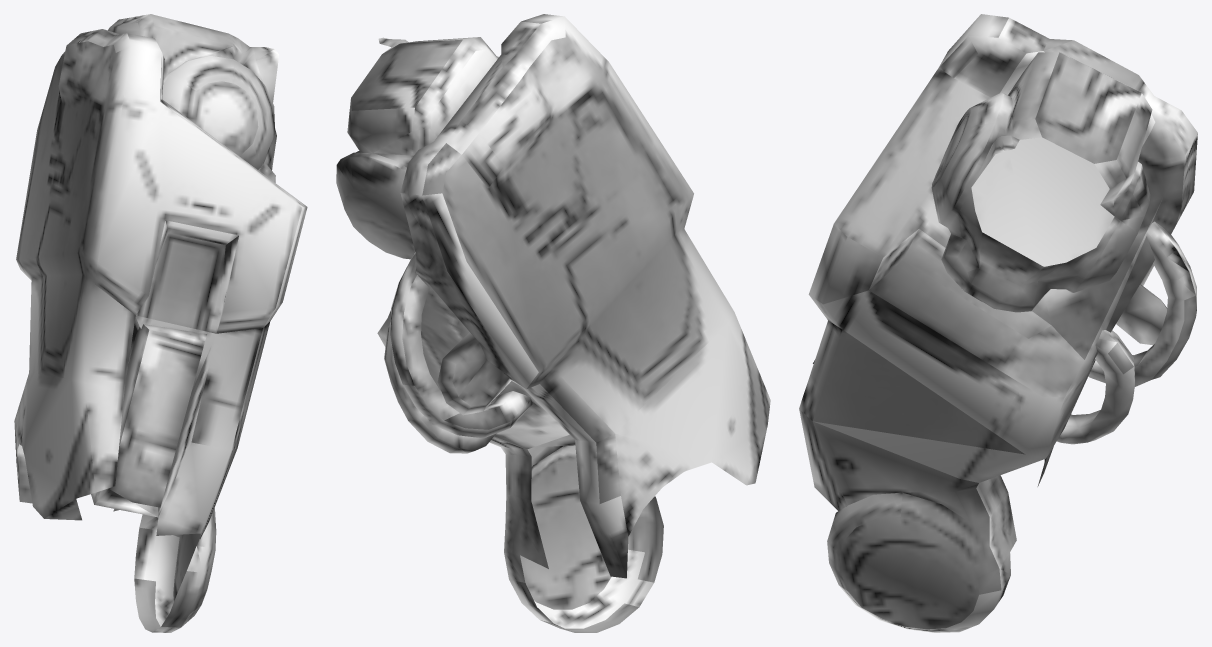
File: r_thigh.glb
The picture shows the model from 3 angles, left to right: view 1: azimuth 30°, elevation 25°; view 2: azimuth 150°, elevation 25°; view 3: azimuth 270°, elevation 25°; orthographic projection. The views are drawn at different scales.
Parts seen in each view (by area): view 1: r_thigh; view 2: r_thigh; view 3: r_thigh.
Part boxes in pixels (x1,y1,x2,y2): r_thigh: [14, 14, 307, 632]; r_thigh: [336, 14, 770, 632]; r_thigh: [799, 14, 1197, 632].
Bounding box in the file's own units: 0.63 × 1.19 × 0.694.
3 materials, 3 textured.
